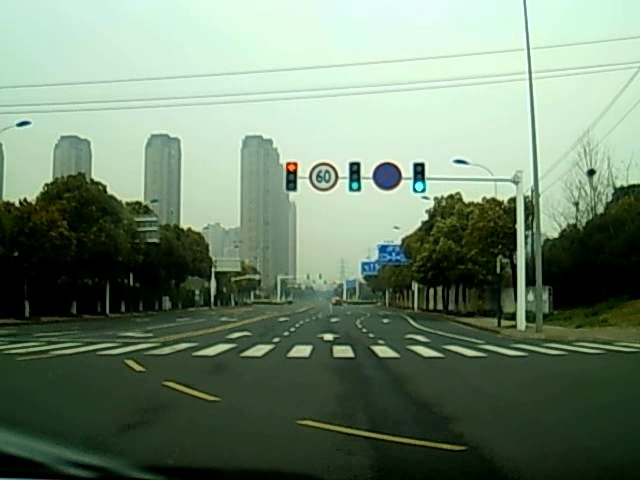Traffic_Light_go: (411, 162, 428, 195), (348, 163, 363, 192)
Traffic_Light_stop: (284, 161, 299, 195)
